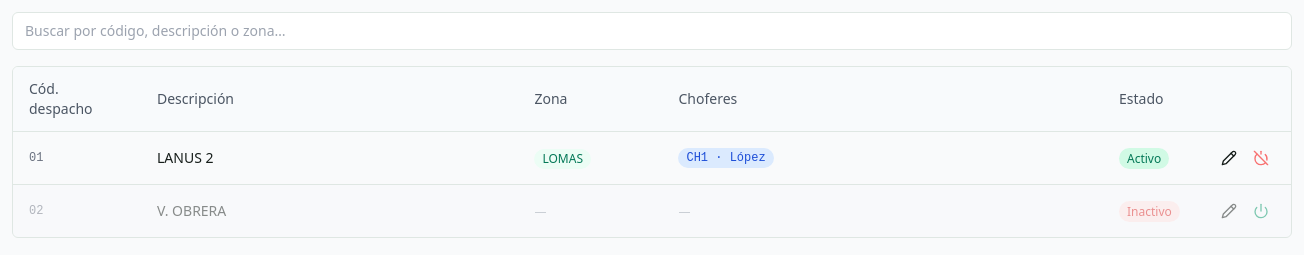
Test: RutasTab › una búsqueda que no matchea nada muestra "Sin resultados"
Type "zzz-no-existe" into the field with placeholder "Buscar por código, descripción o zona…" at x=652, y=31, box [12, 12, 1292, 50]
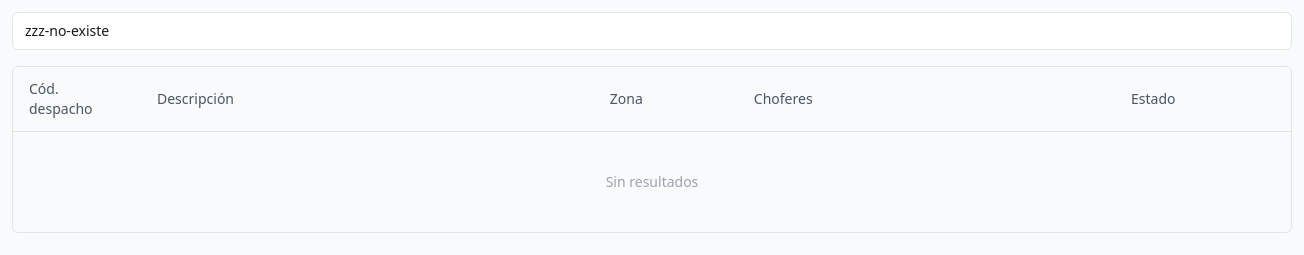
Check: the text "Sin resultados" is shown, box [13, 132, 1291, 232]
